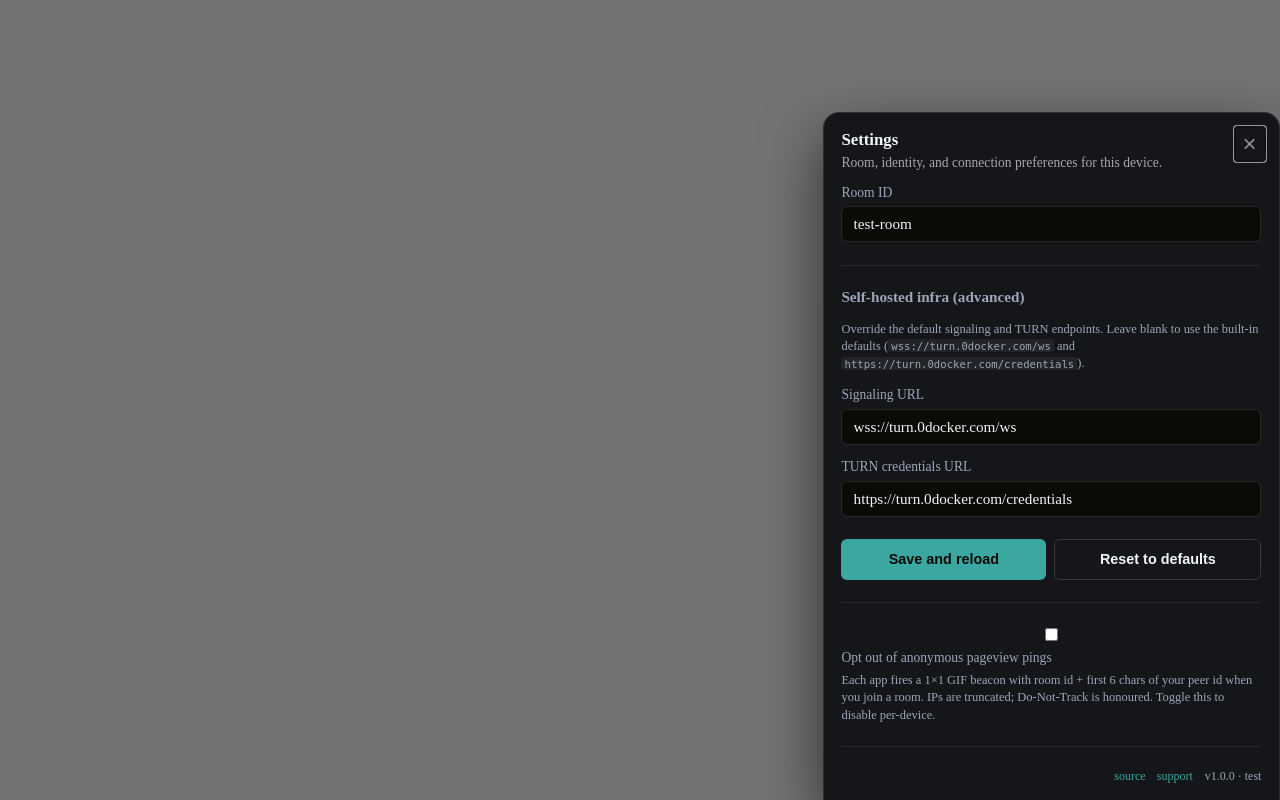
Test: shared app chrome › explains and blocks an invalid infrastructure endpoint before reload
Type "https://not-a-websocket.example" into the field labelled "Signaling URL". click: (1051, 427)
box: x1=841 y1=409 x2=1261 y2=445
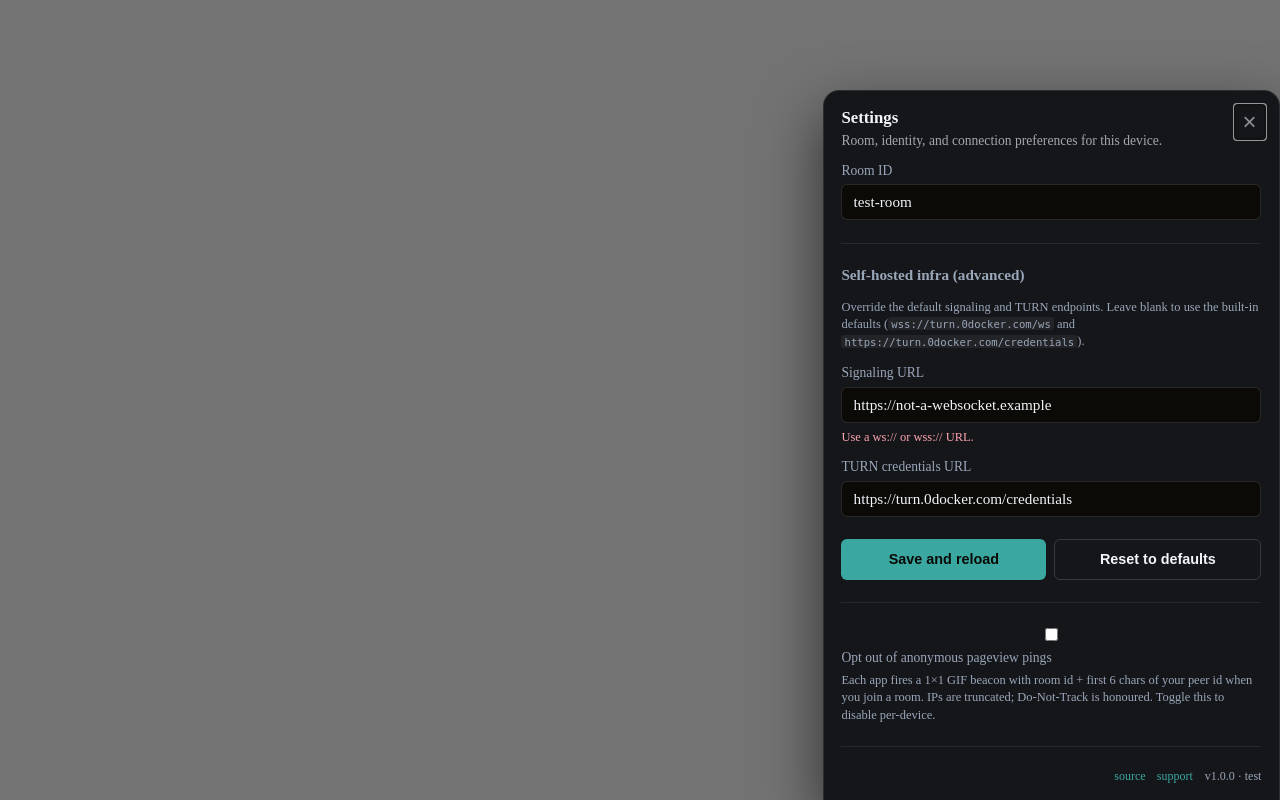
Expected: the button "Save and reload" is disabled, x1=841 y1=539 x2=1046 y2=580
Expected: the message shows "ws:// or wss://", x1=841 y1=430 x2=974 y2=444
